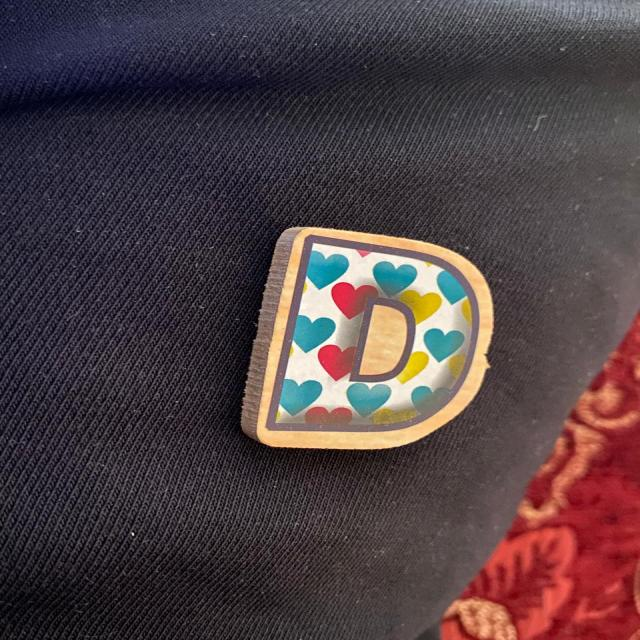D: (241, 228, 493, 449)
